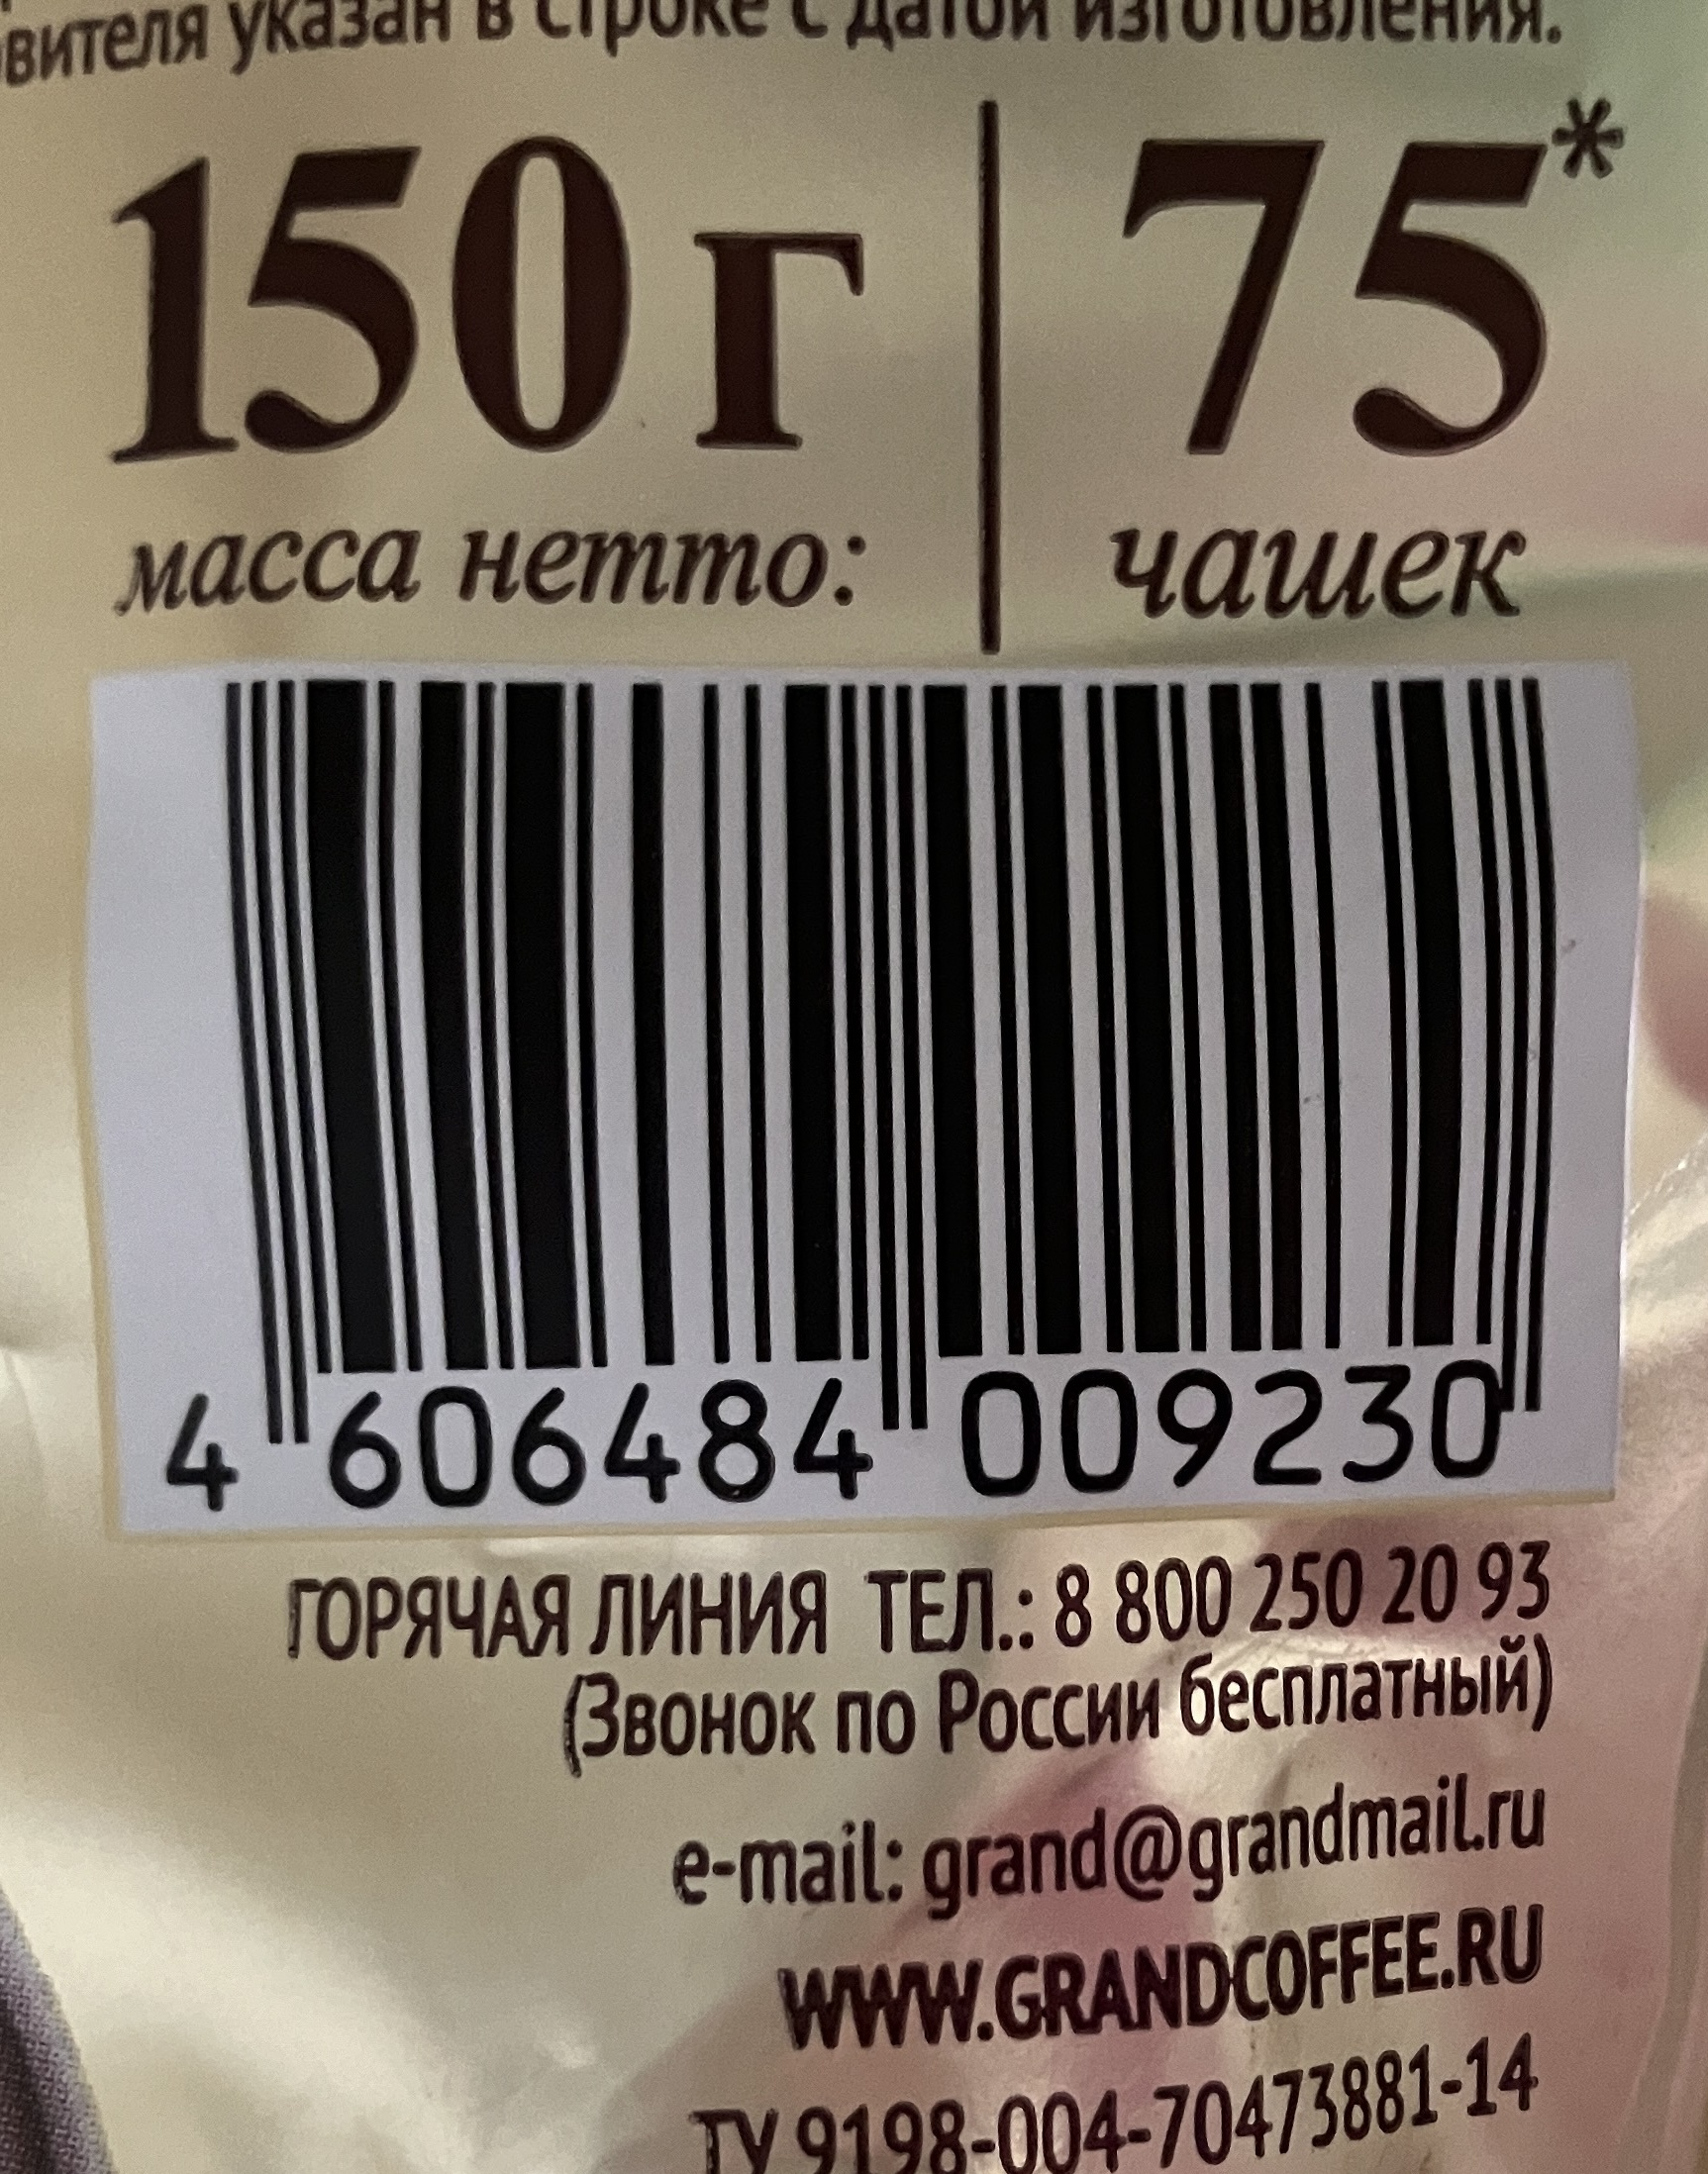1d: (221, 679, 1558, 1445)
